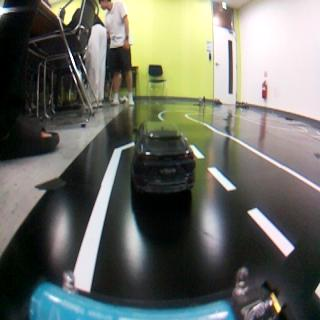car: (134, 122, 193, 190)
